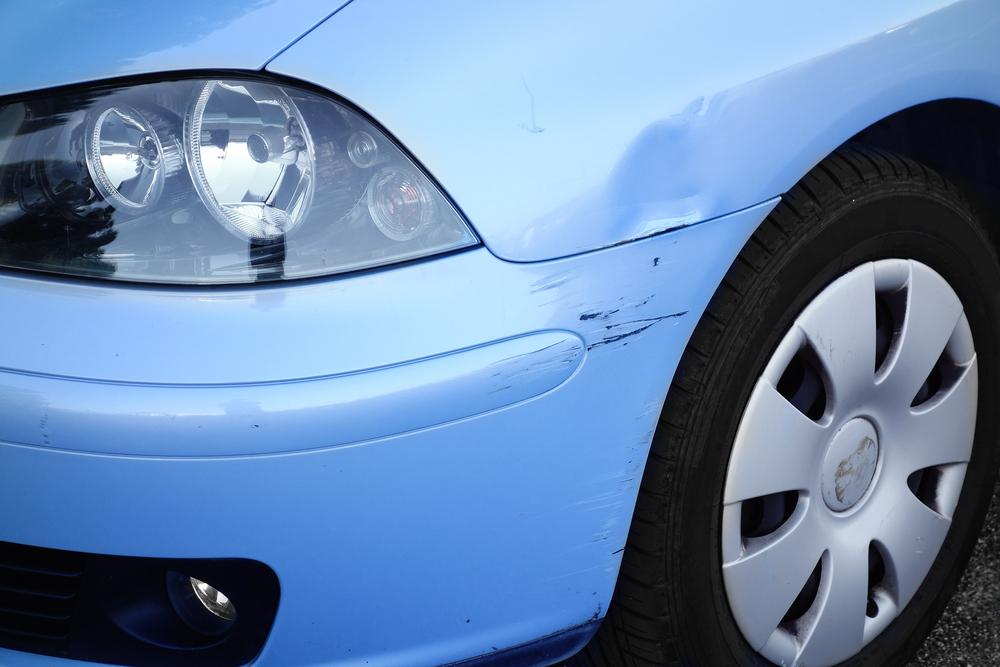dent: (602, 118, 715, 238)
scratch: (553, 388, 666, 581), (479, 294, 688, 391)
